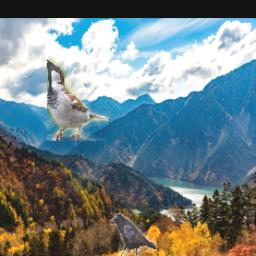Crow: (111, 214, 157, 256)
Sparrow: (46, 59, 108, 141)
